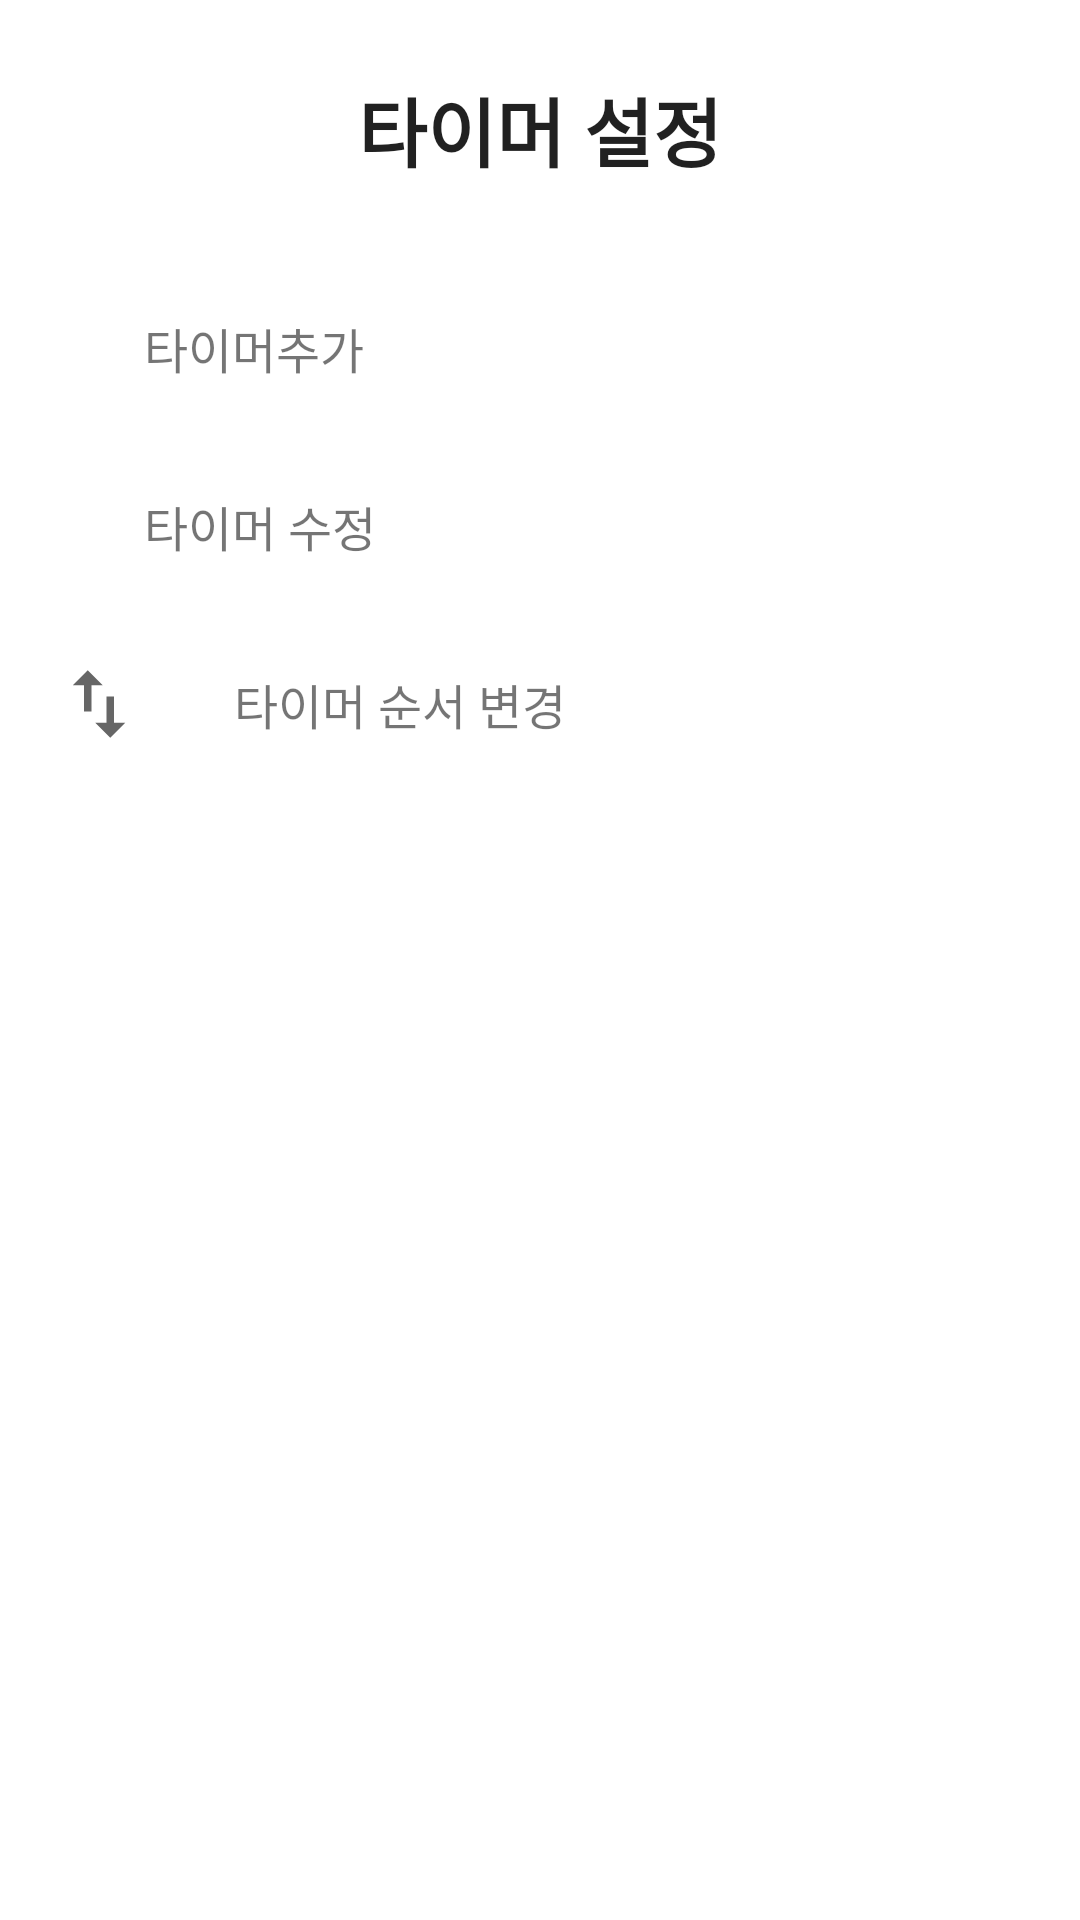

Where icons sit on this 1080px×1920px app screen, as (x1, y1, x2, y2):
swap vert: (73, 670, 125, 738)
